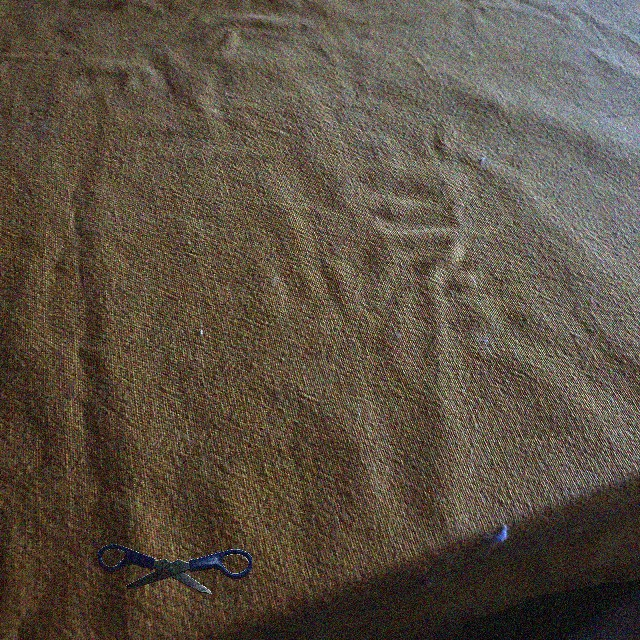scissors: (98, 544, 252, 594)
